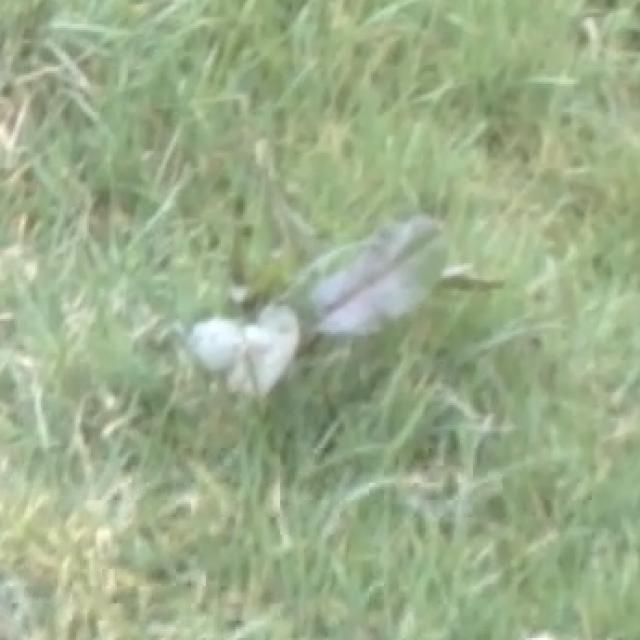organic waste: (97, 188, 528, 401)
